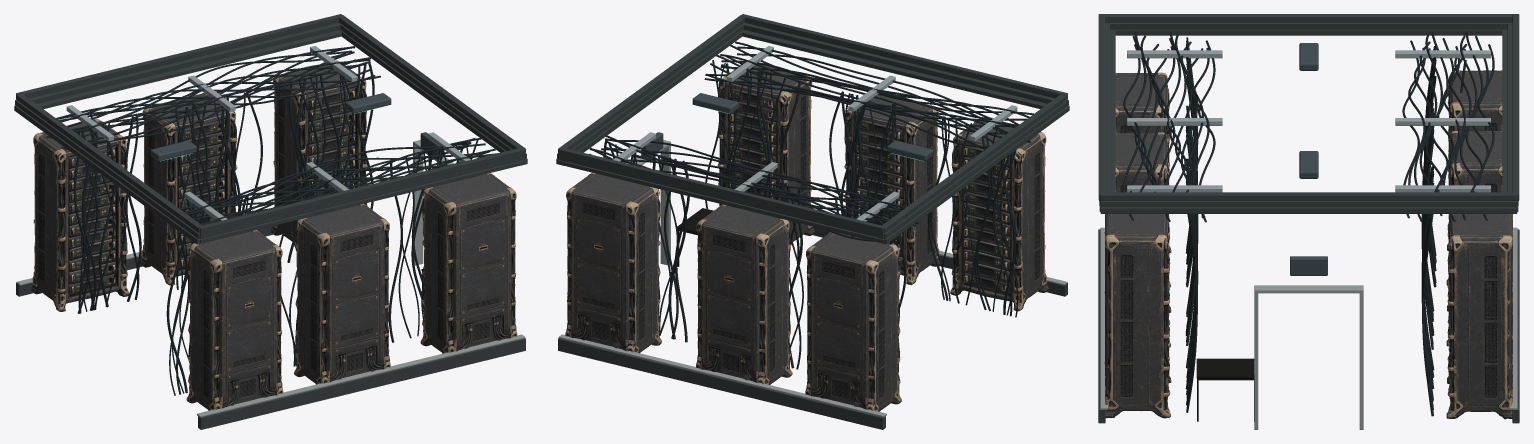
The model's file is SILENT_Room_04_A_Objects.fbx.
3 views of the same model, side by side, from view 1: azimuth 30°, elevation 25°; view 2: azimuth 150°, elevation 25°; view 3: azimuth 270°, elevation 25° (orthographic). The views are drawn at different scales.
Visible parts, largest first — view 1: Room_04_A_Objects; view 2: Room_04_A_Objects; view 3: Room_04_A_Objects.
Part boxes in pixels (<box>): Room_04_A_Objects: <box>14,14,527,429</box>; Room_04_A_Objects: <box>556,14,1069,429</box>; Room_04_A_Objects: <box>1098,14,1519,429</box>.
Bounding box in the file's own units: 6.98 × 3.96 × 6.59.
Materials: 14 (7 with a texture image).
